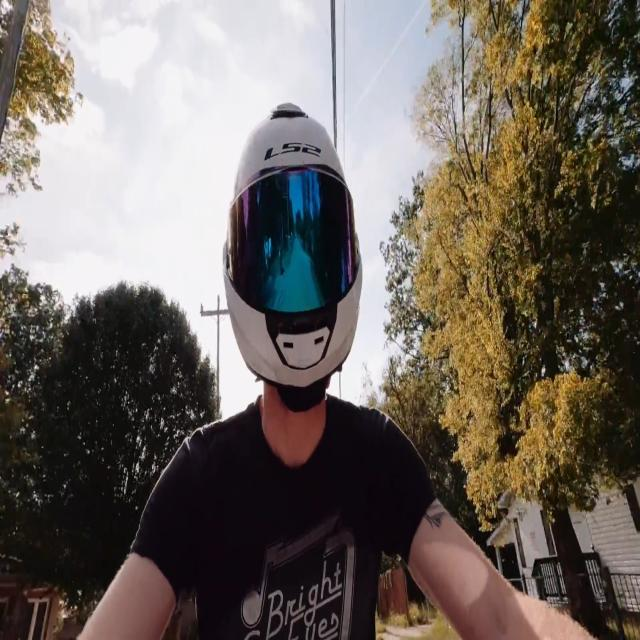Helmet_Wearer: (216, 107, 366, 442)
Person: (80, 107, 588, 640)
